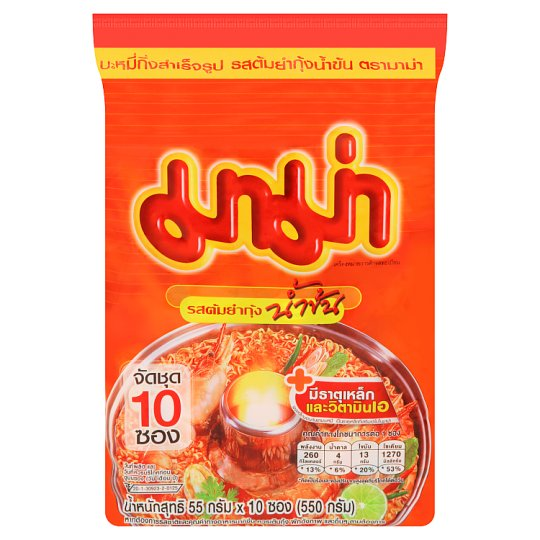Snack: (85, 8, 452, 531)
